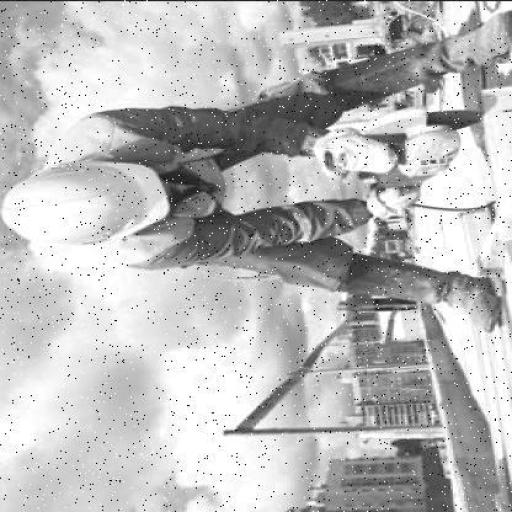person: (2, 8, 501, 346)
safety_shoe: (340, 4, 510, 106), (345, 257, 504, 325)
